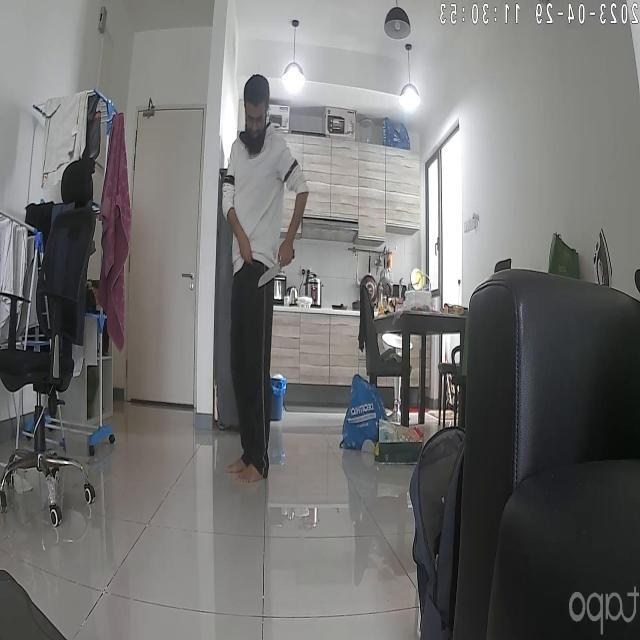Knife: (248, 254, 300, 293)
